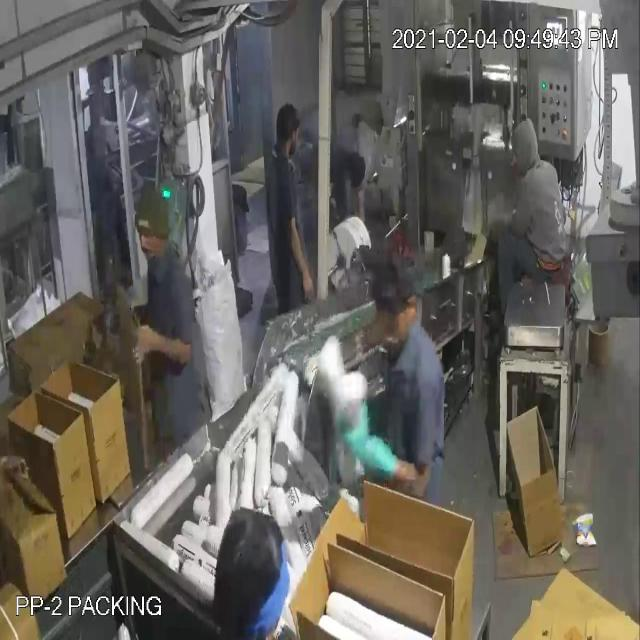gloves: (334, 390, 406, 492)
no-gloves: (123, 307, 197, 381), (279, 202, 317, 309)
